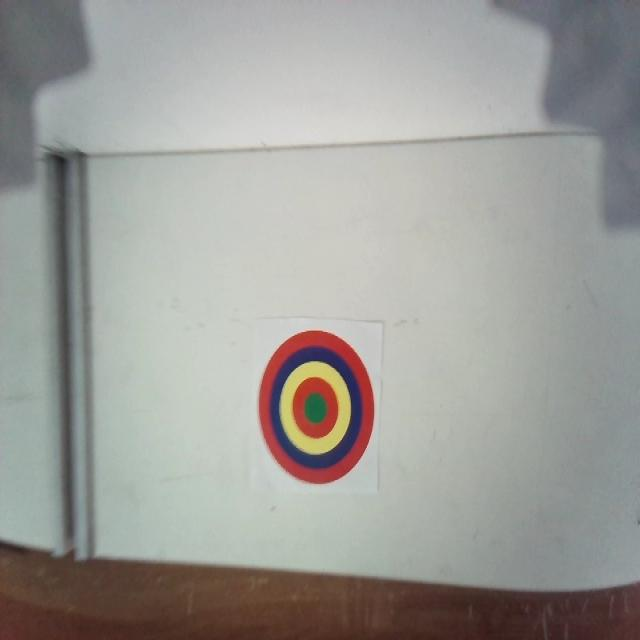cogn: (258, 329, 375, 486)
